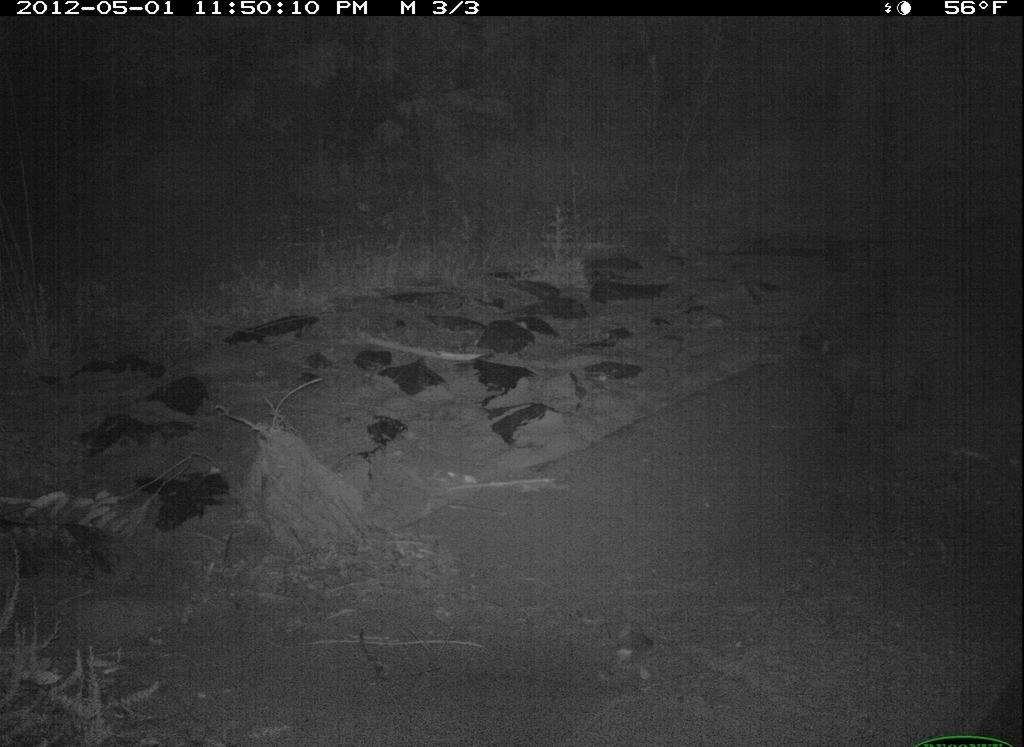cat: (802, 324, 968, 440)
